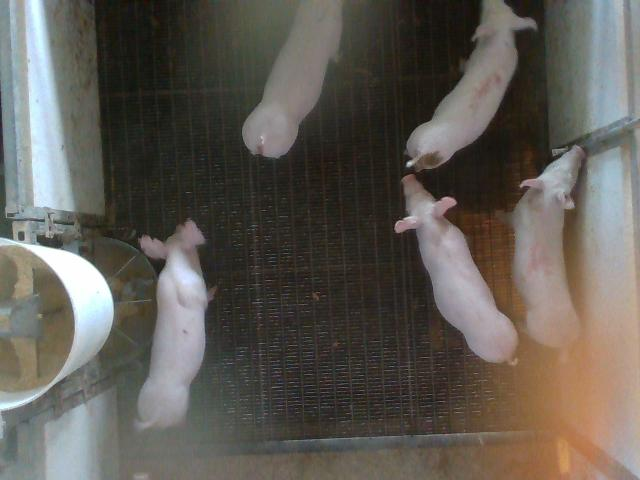pig-4: (509, 145, 585, 347)
pig-5: (406, 0, 538, 171)
